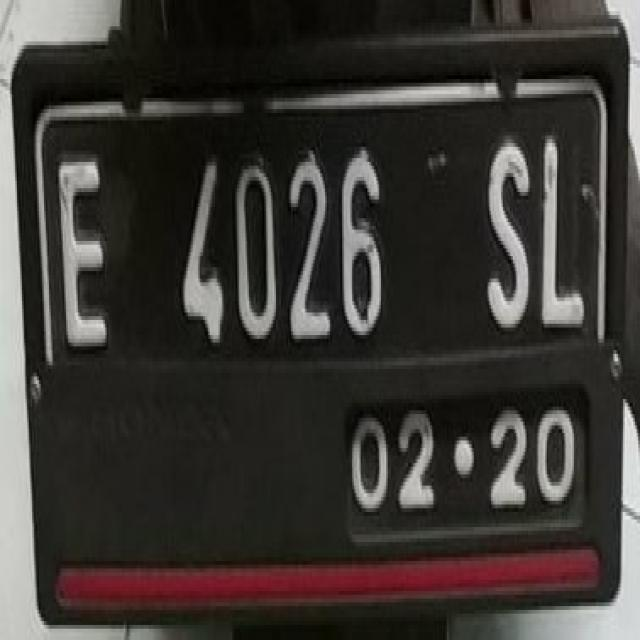plate: (32, 79, 608, 542)
